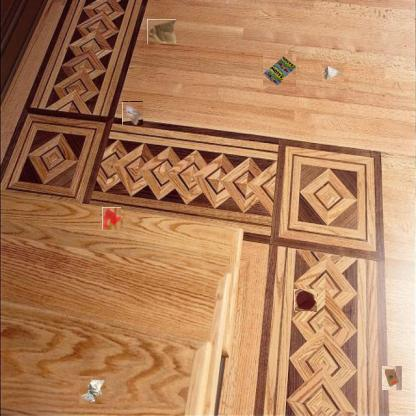dirty: (262, 53, 296, 87), (80, 376, 108, 404), (147, 19, 176, 44), (122, 101, 143, 125), (382, 366, 402, 390), (322, 64, 344, 82)
liquid: (295, 289, 317, 312), (101, 208, 122, 229)
